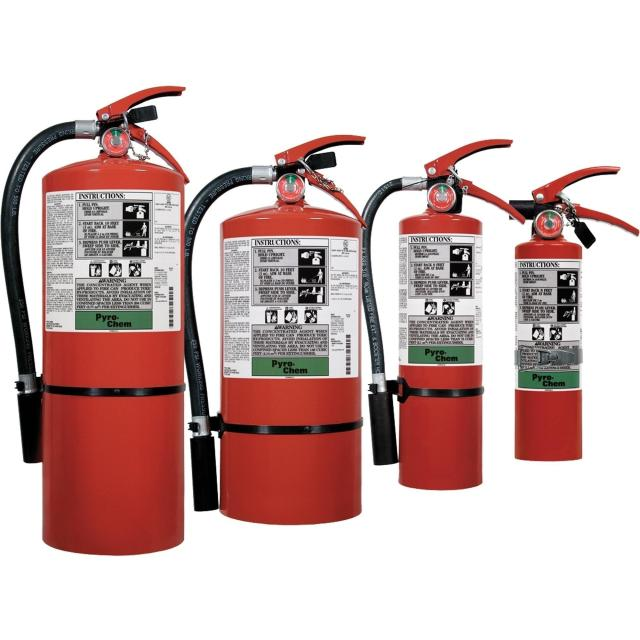fire_extinguisher: (0, 82, 193, 561), (167, 130, 374, 530), (348, 136, 529, 495), (503, 160, 640, 467)
